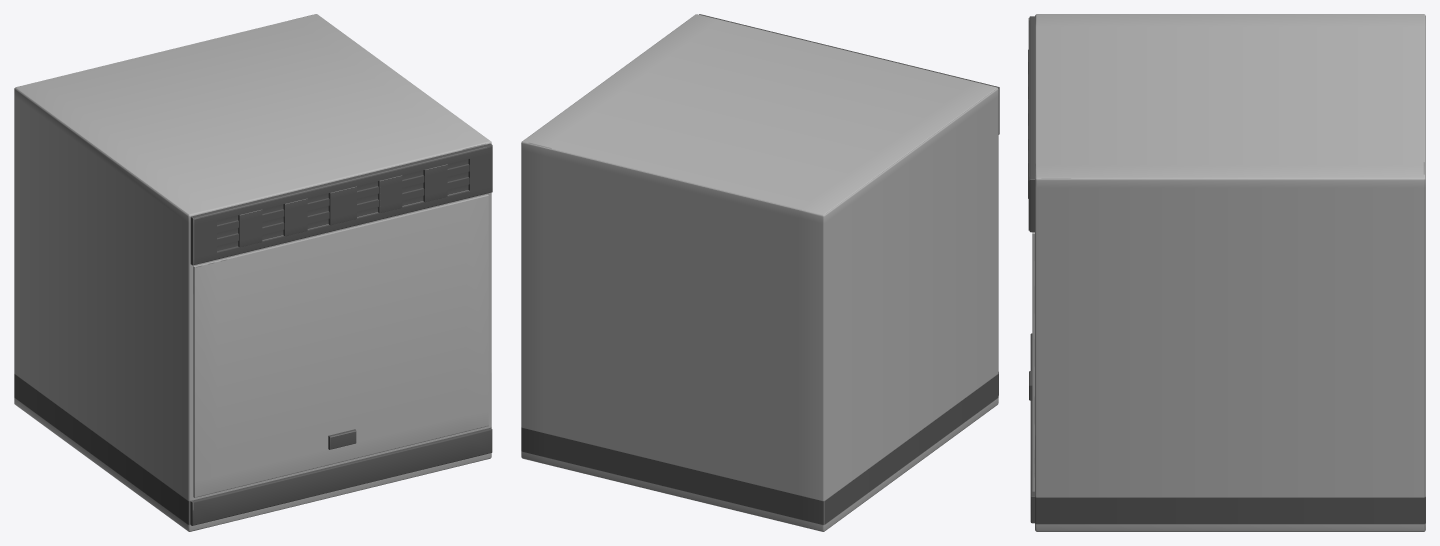
The model's file is DishWasher.fbx.
The picture shows the model from 3 angles, left to right: view 1: azimuth 30°, elevation 25°; view 2: azimuth 150°, elevation 25°; view 3: azimuth 270°, elevation 25°; orthographic projection. The views are drawn at different scales.
Visible parts, largest first — view 1: DishWasher_Baked; view 2: DishWasher_Baked; view 3: DishWasher_Baked.
Part boxes in pixels (x1=…): DishWasher_Baked: x1=14, y1=14, x2=492, y2=531; DishWasher_Baked: x1=521, y1=14, x2=999, y2=531; DishWasher_Baked: x1=1028, y1=14, x2=1425, y2=531.
Size of the model in its own units: 100 by 100 by 102.
Materials: 1 (1 with a texture image).
